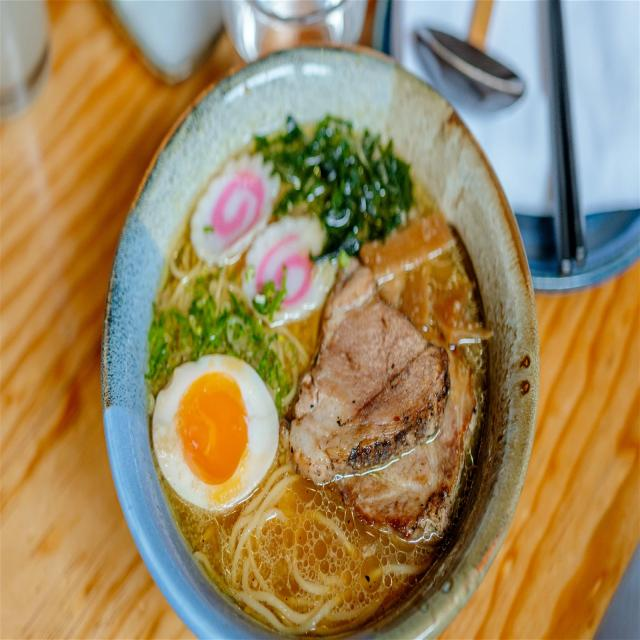carb: (197, 465, 408, 627), (146, 232, 315, 403)
meat: (295, 267, 451, 486), (353, 350, 478, 526), (153, 358, 284, 515), (245, 219, 341, 329), (193, 153, 280, 267)
vegetable: (259, 117, 416, 254), (360, 216, 451, 282), (402, 268, 431, 328)
